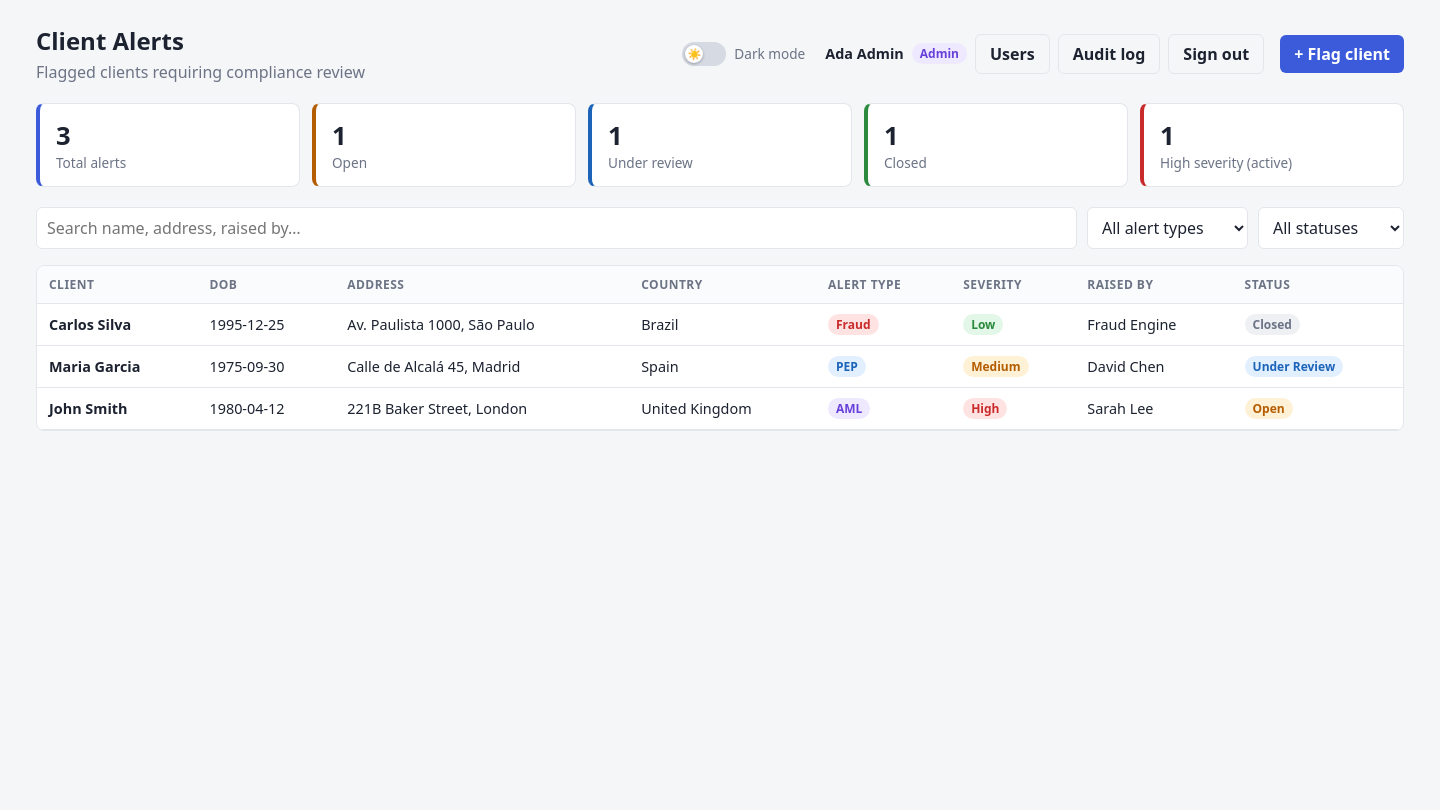
detail panel › enables Save notes only after notes change, then saves them
Check: the text "John Smith" is shown, box x1=37 y1=388 x2=197 y2=430
Click the text "Maria Garcia": (117, 366) x1=37 y1=346 x2=197 y2=388
(page scrolled)
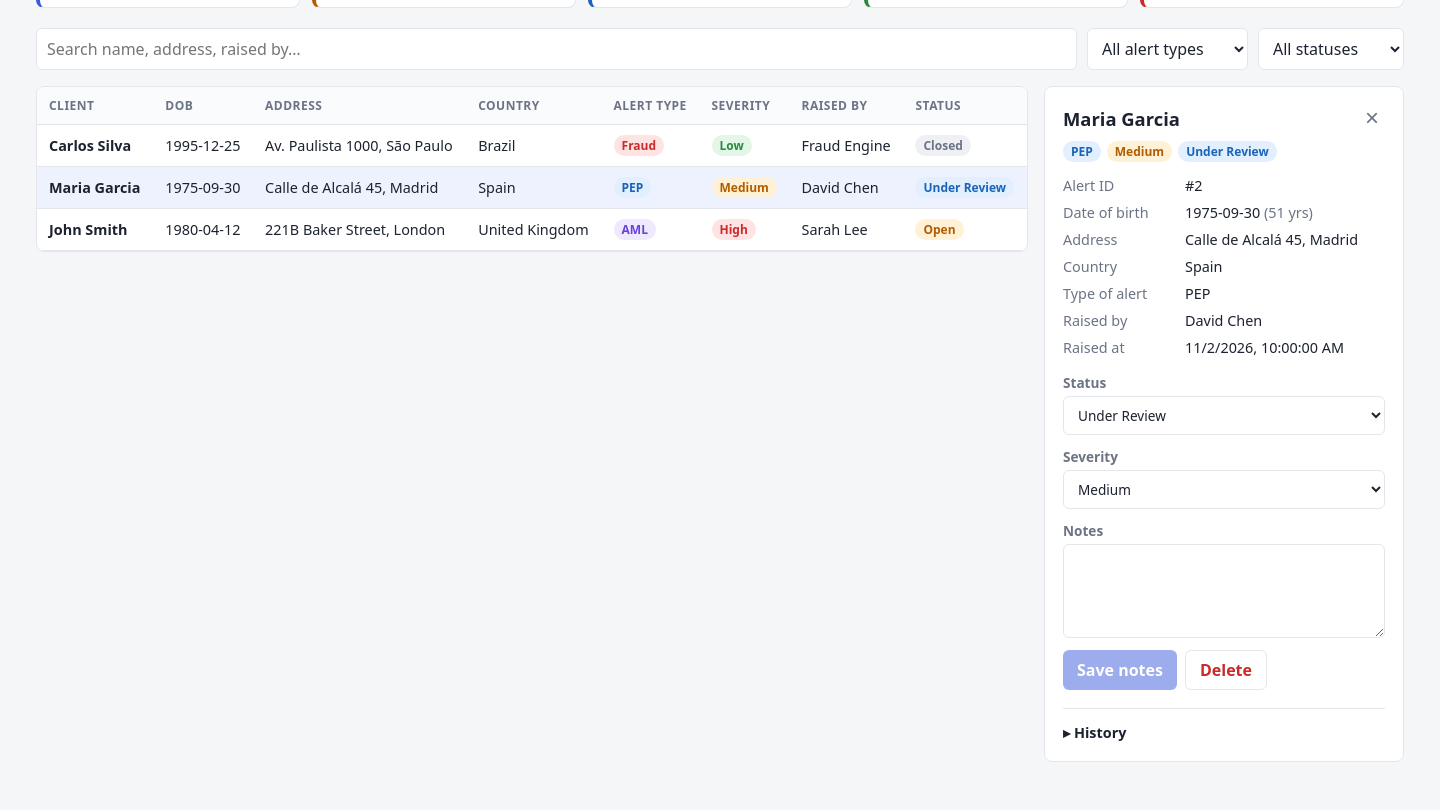
Check: the button "Save notes" is disabled, box x1=1063 y1=650 x2=1177 y2=690
In the text box labelled "Notes": (1224, 591) x1=1063 y1=544 x2=1385 y2=638, type "Spouse is a minister"
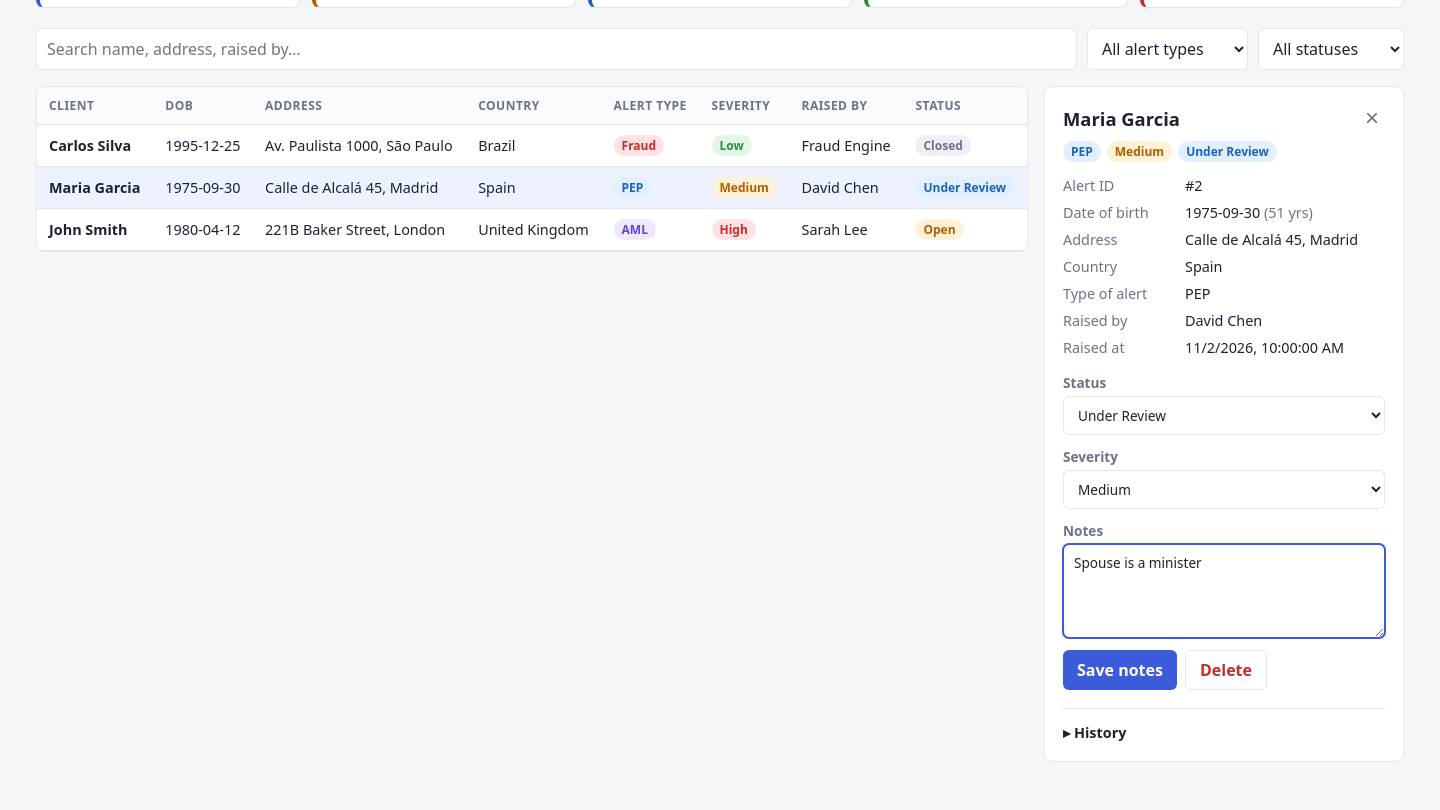
Check: the button "Save notes" is enabled
Click the button "Save notes": (1120, 670) x1=1063 y1=650 x2=1177 y2=690
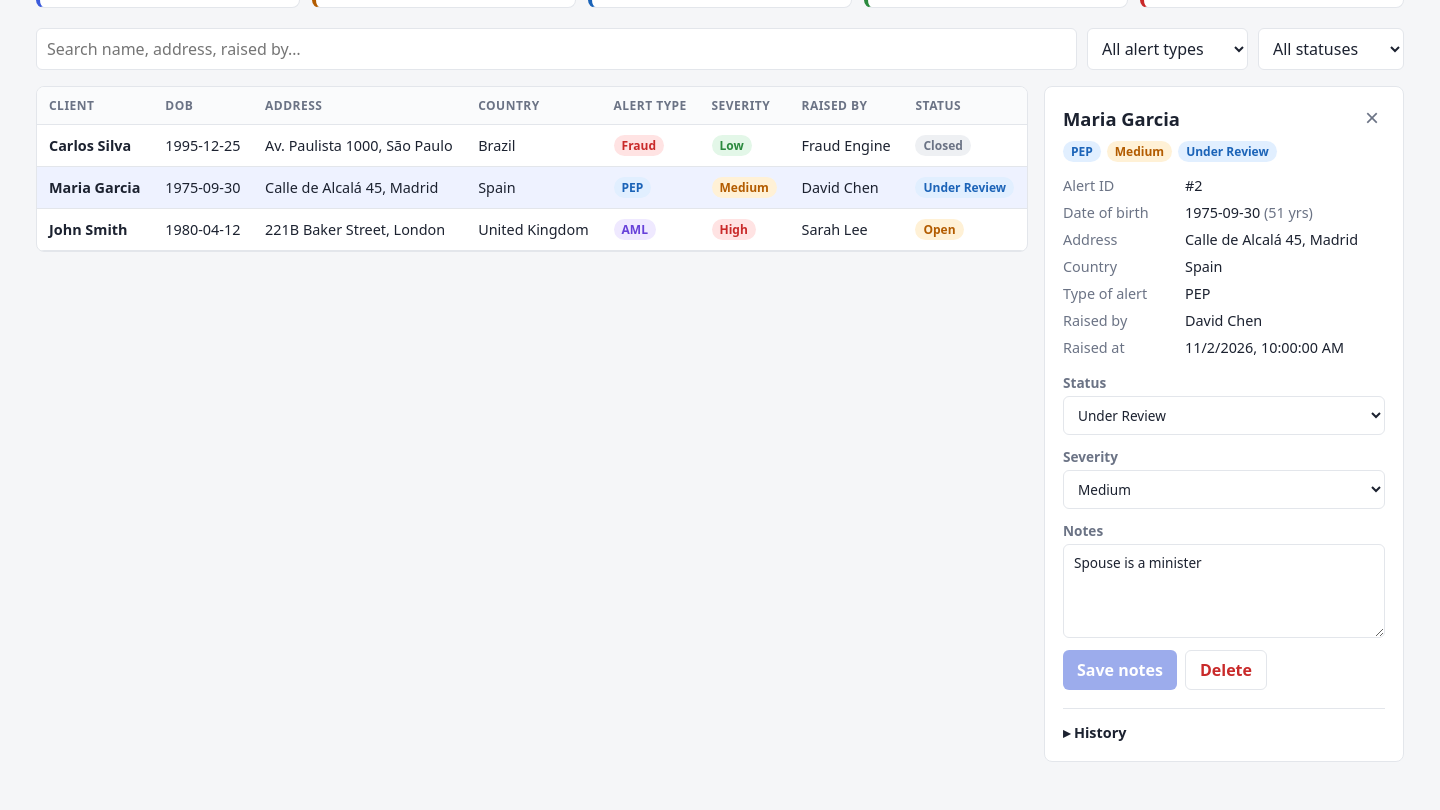
Check: the button "Save notes" is disabled, box x1=1063 y1=650 x2=1177 y2=690
